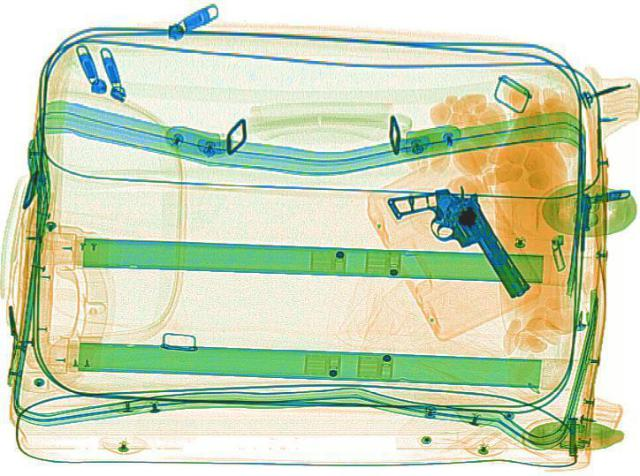Gun: (380, 174, 542, 310)
